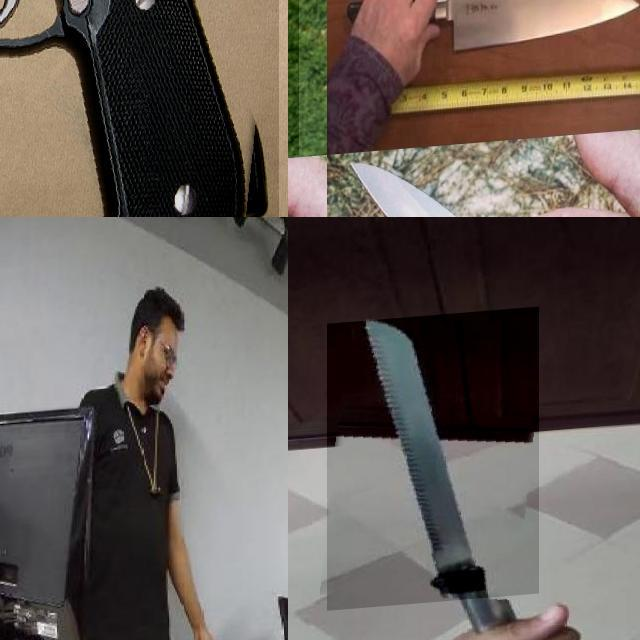-: (327, 312, 539, 612), (288, 0, 410, 175), (344, 142, 626, 217), (387, 0, 640, 64)
gun-knife-thesis - v11 Yolov5 augmented: (0, 0, 278, 217)
